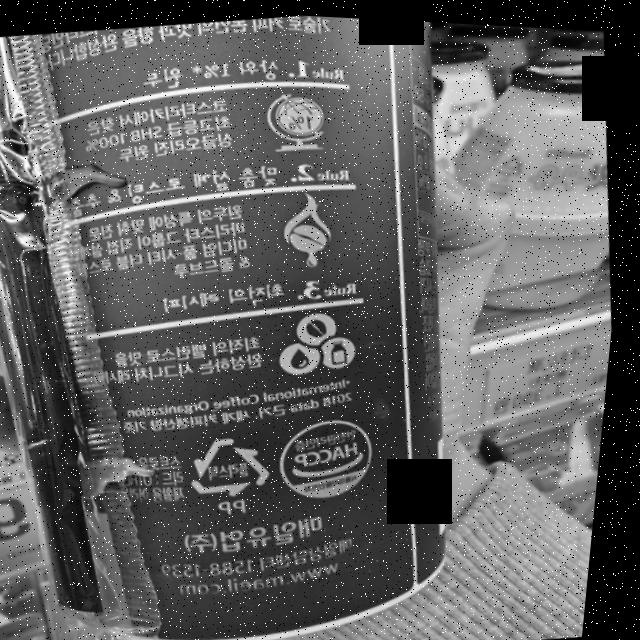Plastic: (191, 425, 291, 502)
